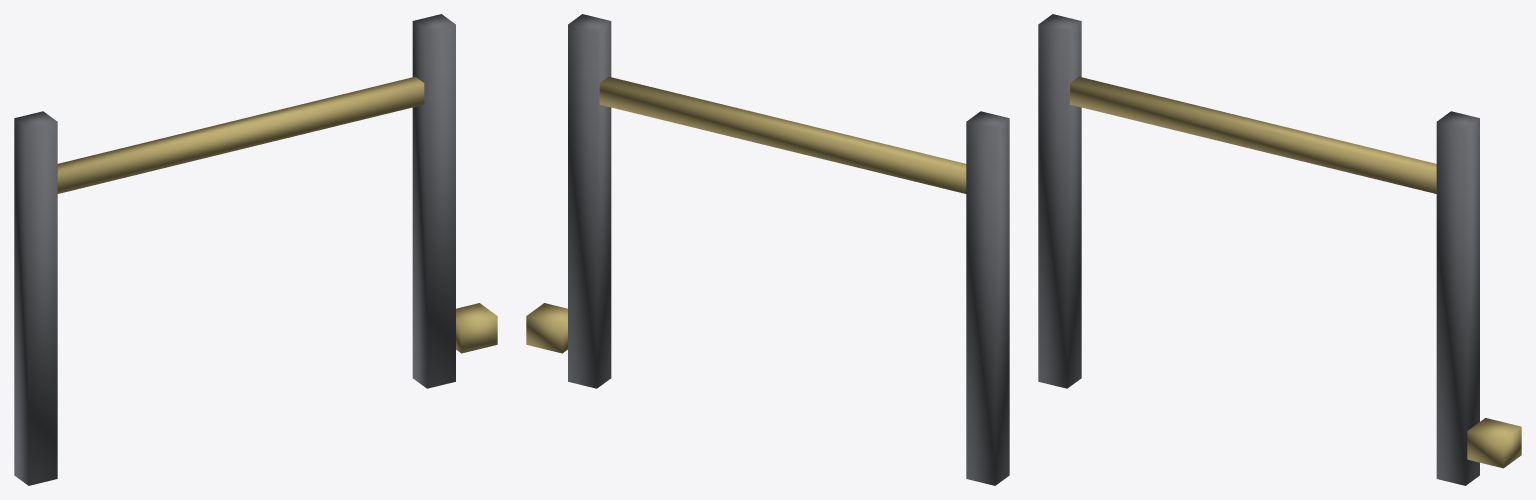
File: queue_gate_11.glb
The picture shows the model from 3 angles, left to right: view 1: azimuth 30°, elevation 25°; view 2: azimuth 150°, elevation 25°; view 3: azimuth 330°, elevation 25°; orthographic projection.
Parts seen in each view (by area): view 1: world; view 2: world; view 3: world.
Part boxes in pixels (x1=…): world: x1=14, y1=14, x2=497, y2=485; world: x1=526, y1=14, x2=1009, y2=485; world: x1=1038, y1=14, x2=1521, y2=485.
Size of the model in its own units: 1.34 by 0.98 by 0.09.
